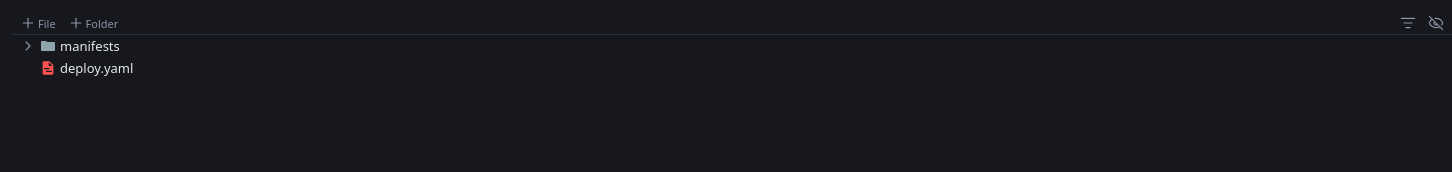
Scenario: the row context menu › opens on right-click and offers the actions that work
This screenshot has width=1452, height=172.
Right-click the list item "deploy.yaml": (87, 68) [40,59,133,77]
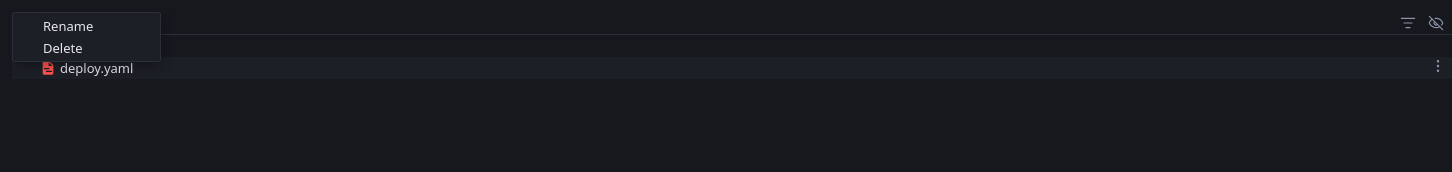
Expected: the menu item "Rename" is shown, [15,15,158,37]
Expected: the menu item "Delete" is shown, [15,37,158,59]
